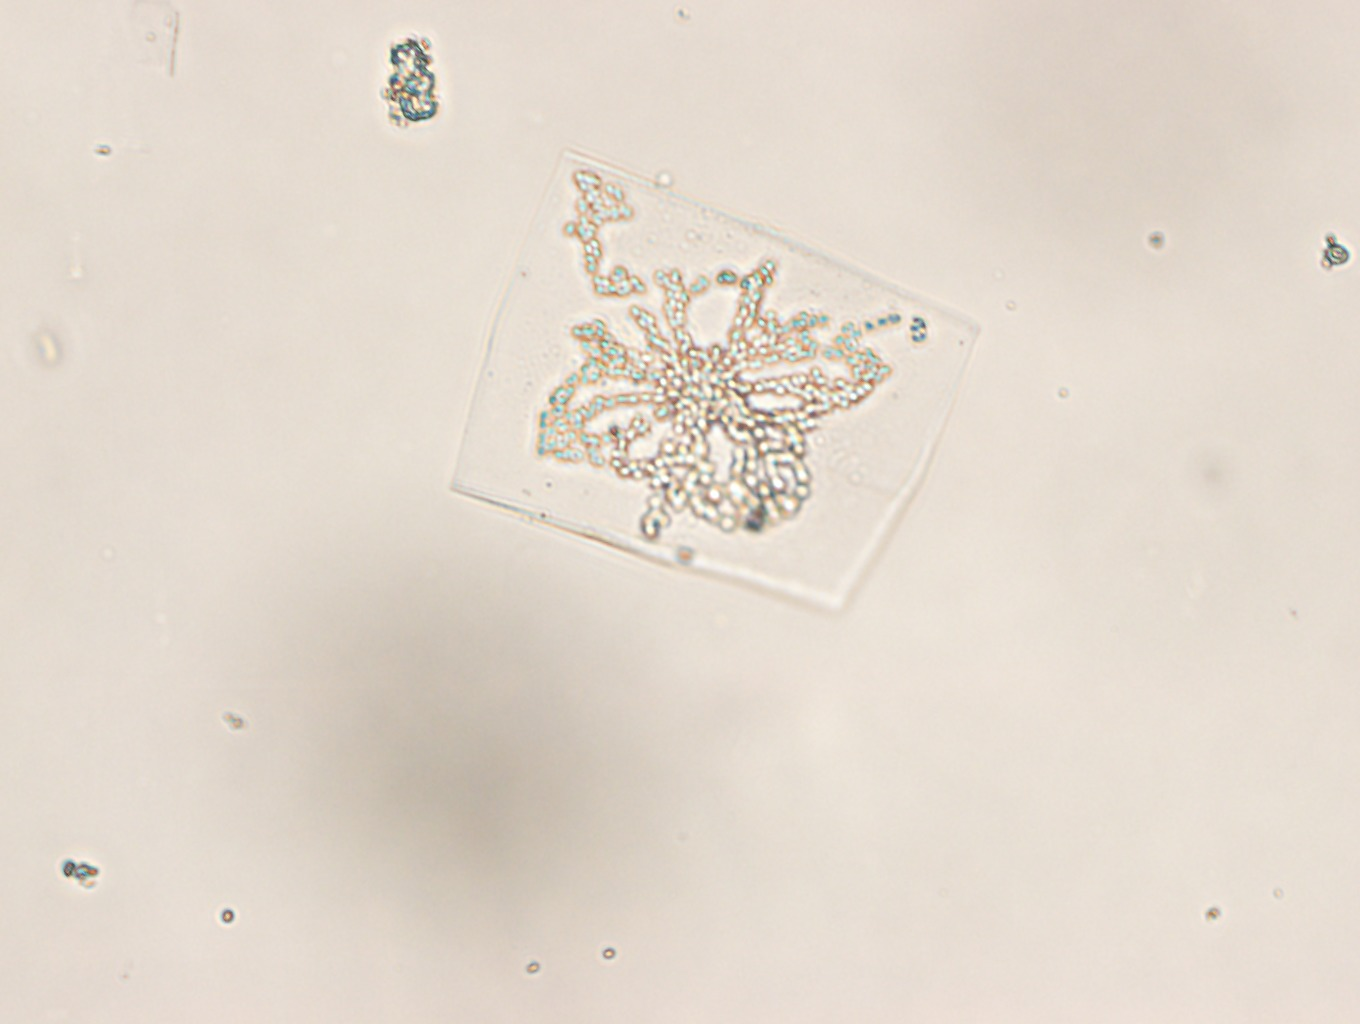helicotheca: (447, 142, 976, 629)
